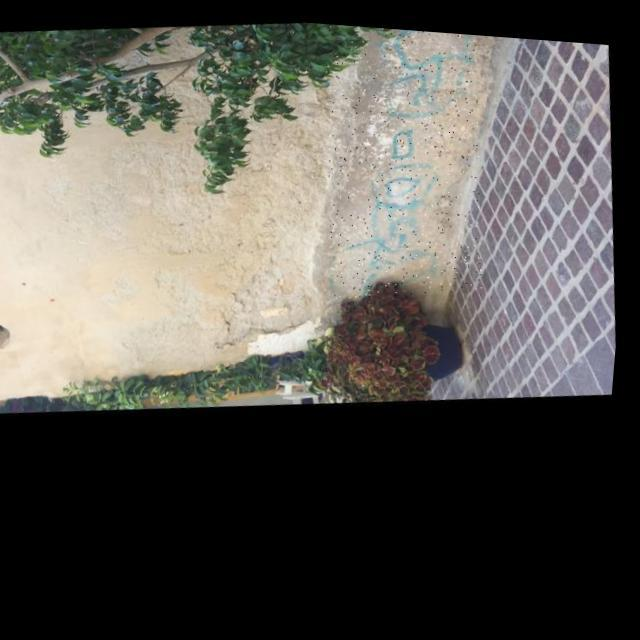-: (307, 19, 502, 301)
